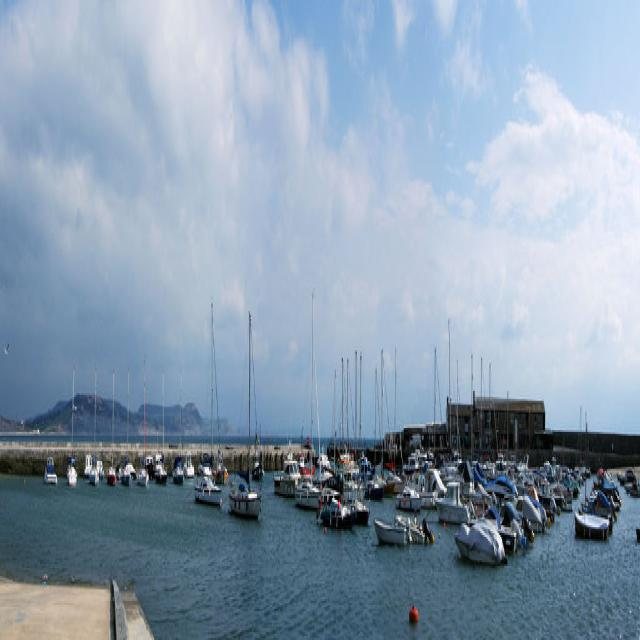Boat: (68, 297, 639, 576), (226, 308, 261, 522), (42, 455, 58, 489)
